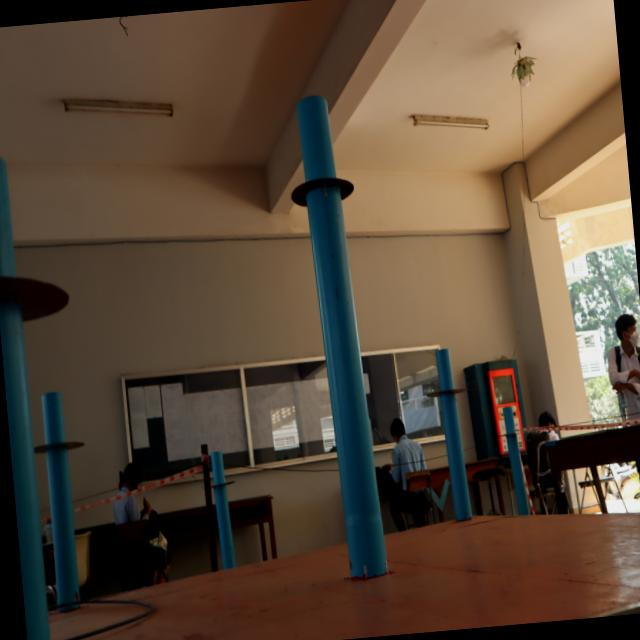pole: (270, 90, 370, 276), (22, 384, 86, 509), (420, 343, 476, 437), (494, 404, 531, 462), (202, 452, 236, 512)
